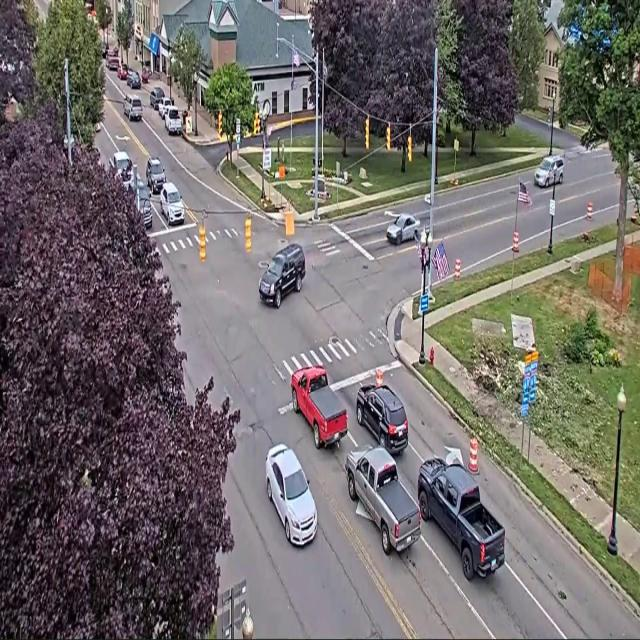car: (266, 444, 317, 546), (356, 384, 408, 454), (258, 244, 306, 308), (386, 214, 420, 244), (161, 183, 184, 225), (535, 156, 563, 187), (110, 152, 132, 186), (146, 157, 166, 194), (137, 181, 152, 229), (165, 106, 182, 135), (124, 96, 142, 120), (157, 96, 173, 119), (150, 87, 164, 110), (127, 71, 141, 89), (107, 55, 119, 71), (117, 63, 128, 79), (141, 68, 150, 84), (102, 42, 108, 58), (109, 46, 118, 56)
traffic signal: (199, 224, 205, 262), (245, 216, 251, 252), (254, 112, 260, 135), (365, 117, 369, 149), (548, 106, 554, 127), (408, 135, 412, 162), (386, 125, 390, 151), (218, 111, 222, 136)
truck: (418, 457, 505, 581), (345, 446, 420, 555), (291, 367, 347, 448)
